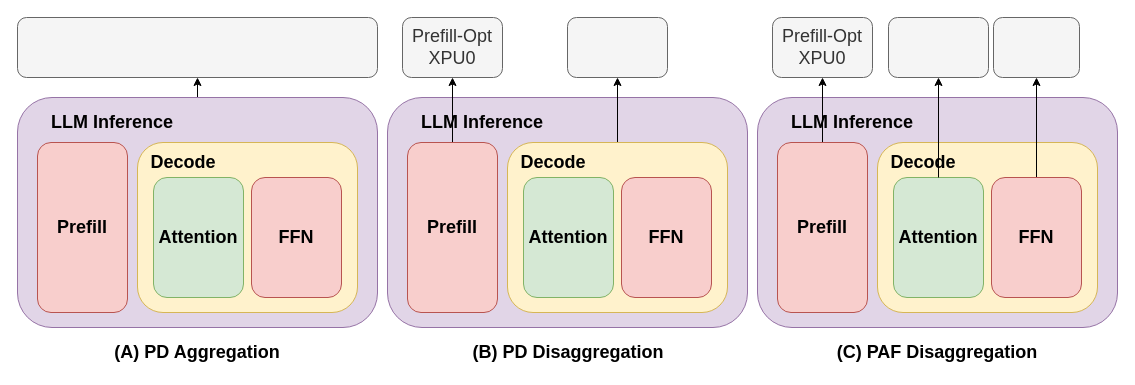
This 1135x385 diagram has some shape labels left out. The centre of each missing label's shape, as x and y in pixels:
"Attn-Opt XPU1" belongs at (938,47).
"Decode-Opt XPU1" belongs at (617,47).
"FFN-Opt XPU2" belongs at (1036,47).
"XPU" belongs at (197,47).
